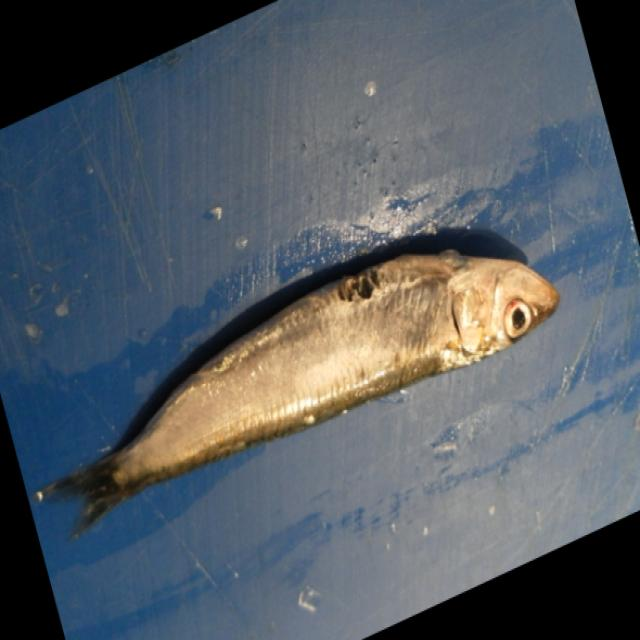Black-Sea-Sprat-tirsi-: (37, 229, 562, 538)
